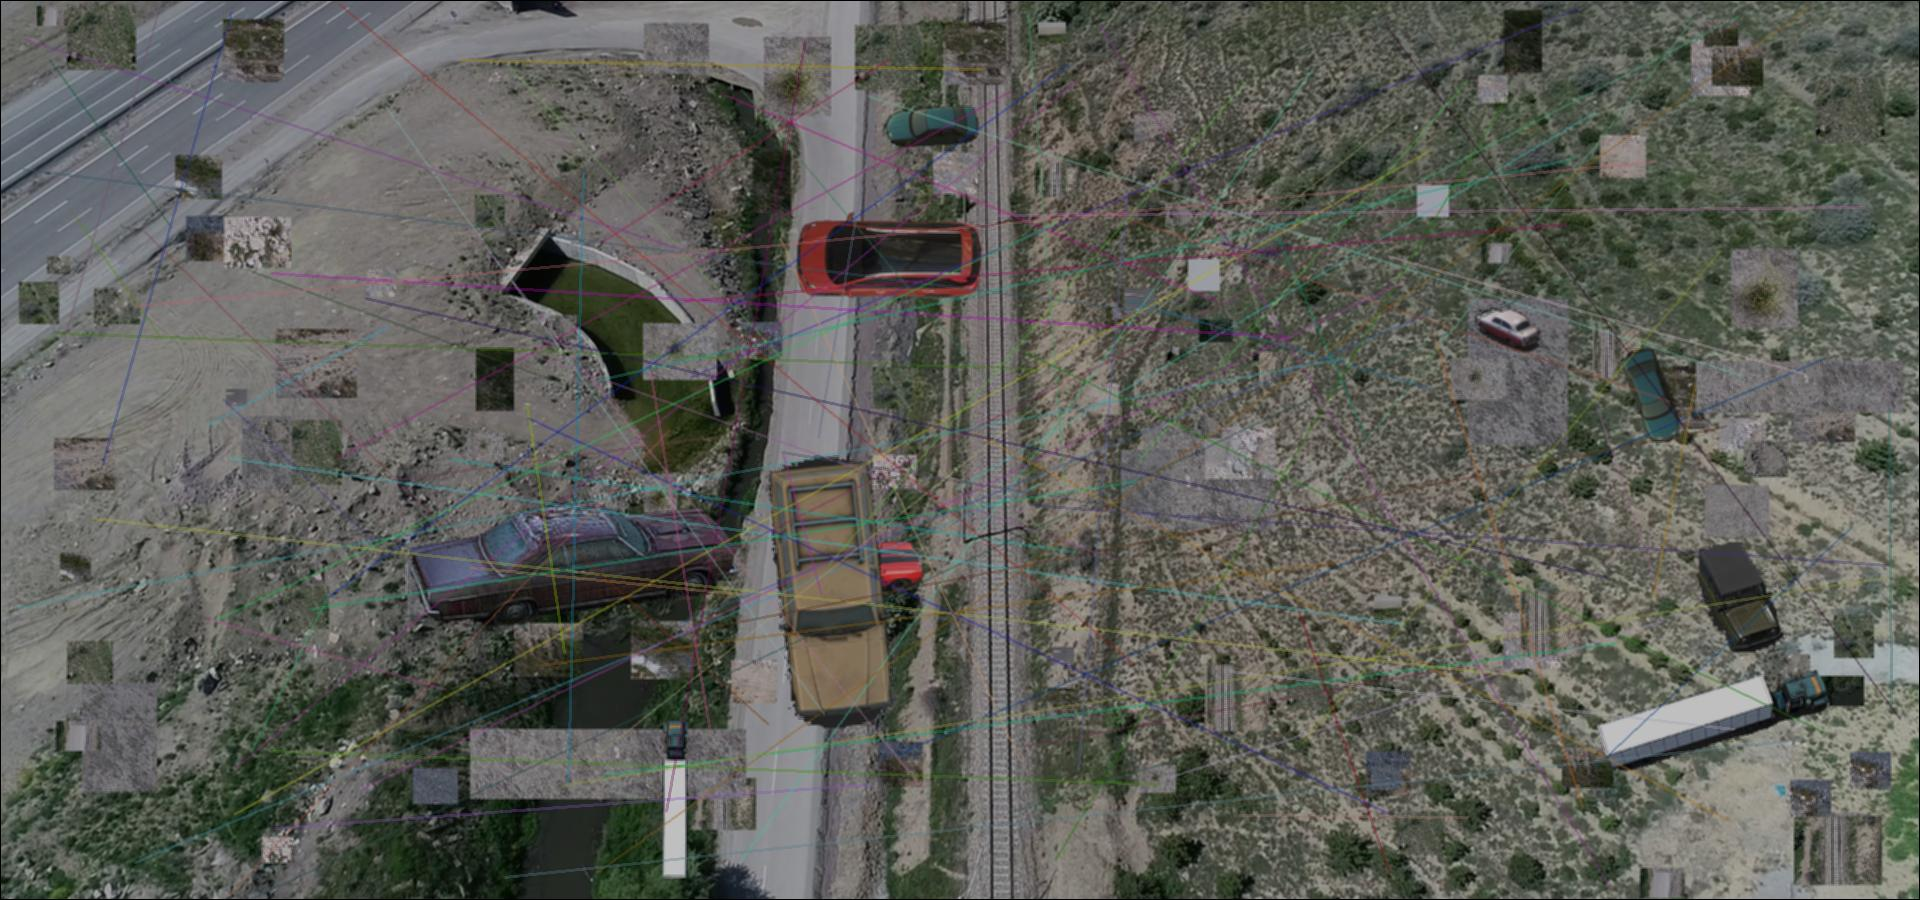arac: (404, 496, 738, 631), (758, 456, 901, 729), (1591, 664, 1831, 770), (793, 208, 989, 306), (773, 538, 928, 602), (1695, 542, 1785, 651), (656, 719, 696, 880), (1620, 347, 1682, 442), (883, 104, 978, 147), (1476, 307, 1544, 353)
